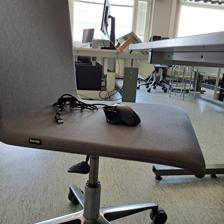mouse: (103, 101, 142, 128)
